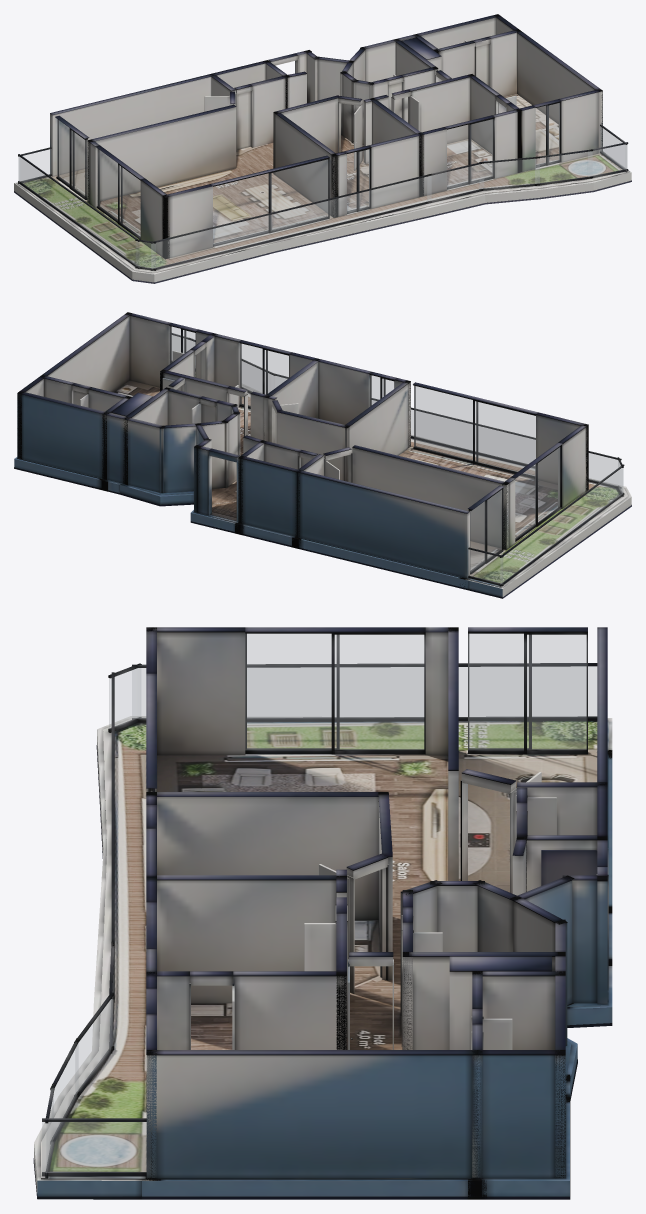
The picture shows the model from 3 angles, top to bottom: view 1: azimuth 30°, elevation 25°; view 2: azimuth 150°, elevation 25°; view 3: azimuth 270°, elevation 25°; orthographic projection. The views are drawn at different scales.
Parts seen in each view (by area): view 1: plan, railg1_m, glass2_m, railg8_m, glass0_m, glass4_m, railg5_m, glass1_m, railg4_m, railg6_m, glass5_m, glass3_m (+4 smaller); view 2: plan, glass2_m, railg1_m, railg8_m, glass0_m, glass4_m, glass1_m, railg0_m, railg5_m, glass5_m, glass3_m; view 3: plan, glass0_m, railg8_m, glass1_m, railg2_m, railg5_m, railg7_m, railg4_m.
Boxes of the visible parts, left/top/right/bottom form: plan: left=14, top=14, right=631, bottom=283; railg1_m: left=151, top=176, right=431, bottom=268; glass2_m: left=213, top=159, right=327, bottom=244; railg8_m: left=19, top=157, right=139, bottom=266; glass0_m: left=97, top=149, right=140, bottom=236; glass4_m: left=447, top=119, right=492, bottom=187; railg5_m: left=480, top=158, right=539, bottom=188; glass1_m: left=57, top=119, right=84, bottom=196; railg4_m: left=535, top=151, right=592, bottom=183; railg6_m: left=427, top=164, right=483, bottom=201; glass5_m: left=536, top=103, right=559, bottom=164; glass3_m: left=347, top=149, right=369, bottom=211; plan: left=14, top=312, right=631, bottom=598; glass2_m: left=414, top=386, right=535, bottom=475; railg1_m: left=372, top=400, right=620, bottom=485; railg8_m: left=500, top=468, right=623, bottom=583; glass0_m: left=515, top=447, right=559, bottom=538; glass4_m: left=240, top=343, right=288, bottom=406; glass1_m: left=470, top=490, right=501, bottom=571; railg0_m: left=469, top=549, right=502, bottom=583; railg5_m: left=242, top=361, right=274, bottom=393; glass5_m: left=170, top=326, right=195, bottom=363; glass3_m: left=370, top=375, right=393, bottom=405; plan: left=33, top=627, right=612, bottom=1199; glass0_m: left=245, top=634, right=423, bottom=749; railg8_m: left=132, top=666, right=596, bottom=718; glass1_m: left=468, top=634, right=586, bottom=749; railg2_m: left=42, top=1122, right=146, bottom=1172; railg5_m: left=75, top=997, right=112, bottom=1094; railg7_m: left=109, top=668, right=140, bottom=728; railg4_m: left=52, top=1044, right=78, bottom=1135.
Size of the model in its own units: 18.27 by 2.62 by 9.61.
2 materials, 1 textured.
